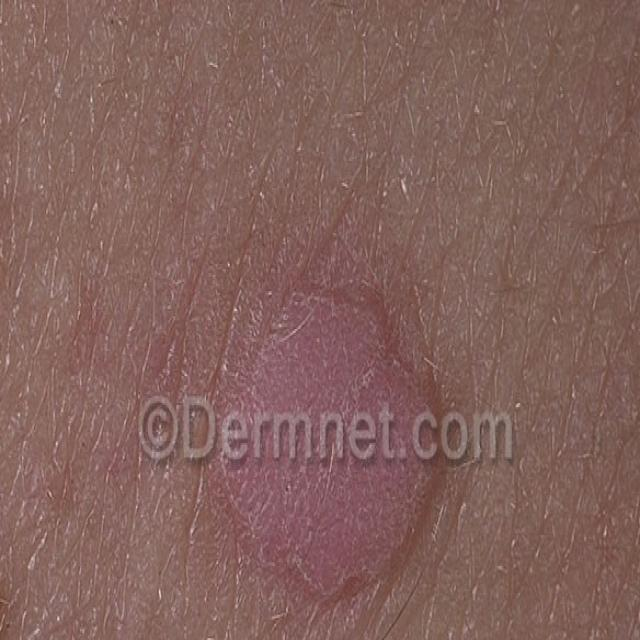Warts: (181, 262, 481, 640)
